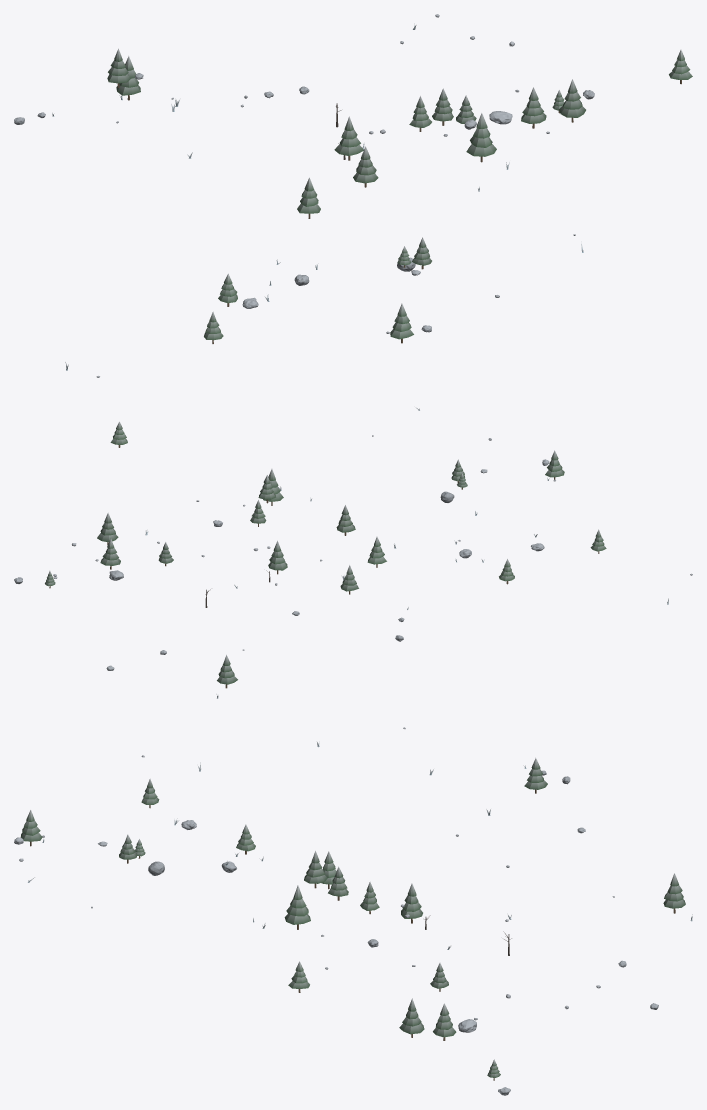
File: frost_land_scatter_c12_09.glb
The picture shows the model from 3 angles, top to bottom: view 1: azimuth 30°, elevation 25°; view 2: azimuth 150°, elevation 25°; view 3: azimuth 270°, elevation 25°; orthographic projection. The views are drawn at different scales.
Visible parts, largest first — view 1: frost_land_scatter_c12_09; view 2: frost_land_scatter_c12_09; view 3: frost_land_scatter_c12_09.
Boxes of the visible parts, x1=… form: frost_land_scatter_c12_09: x1=14, y1=14, x2=692, y2=377; frost_land_scatter_c12_09: x1=14, y1=408, x2=692, y2=698; frost_land_scatter_c12_09: x1=14, y1=727, x2=692, y2=1095.
Size of the model in its own units: 236 by 49.78 by 219.
